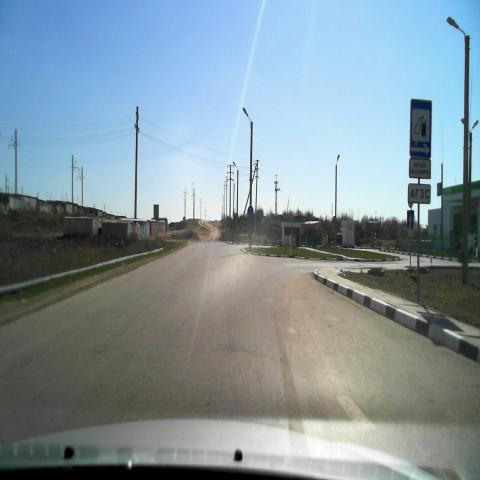7_3: (408, 98, 432, 156)
